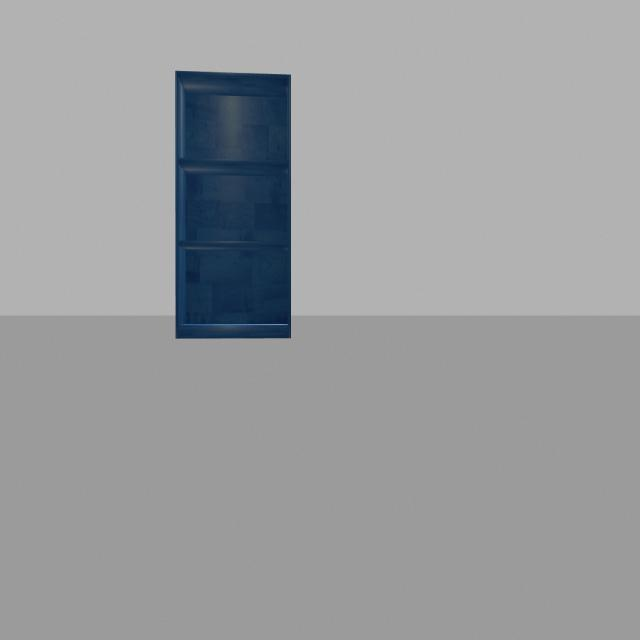shelf: (156, 33, 318, 371)
